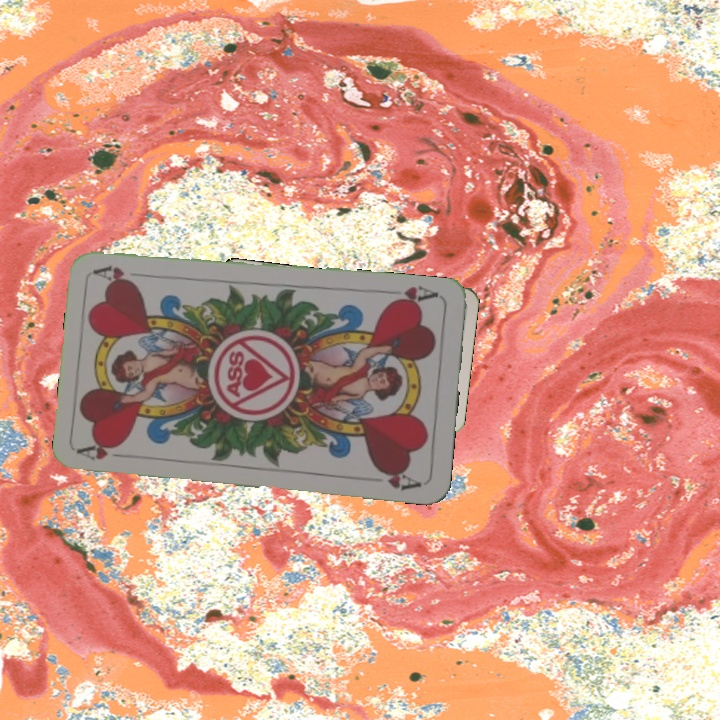HA: (384, 282, 441, 309), (76, 438, 136, 463)
